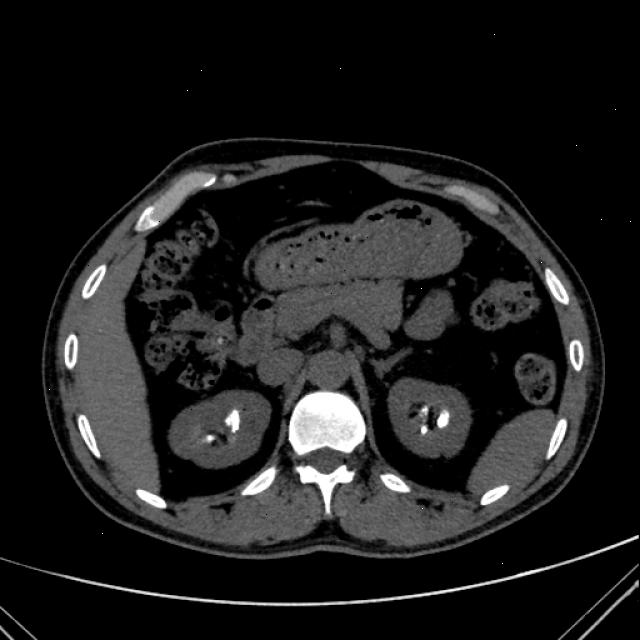kidneystone: (225, 410, 240, 432), (201, 434, 224, 446), (436, 409, 450, 428)
